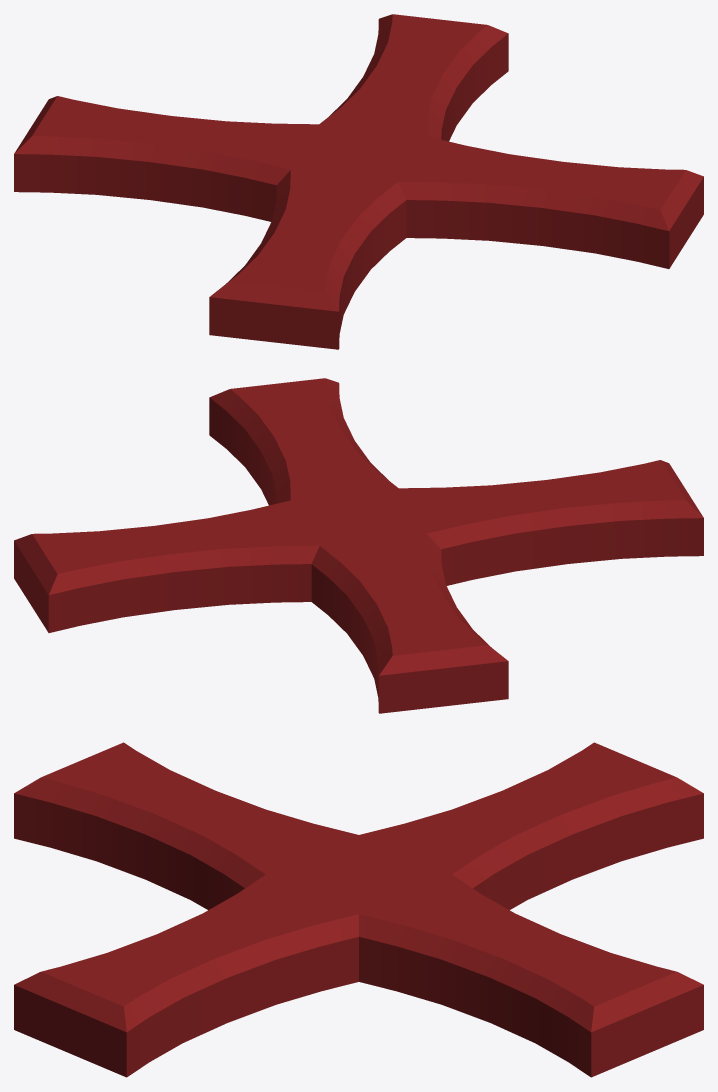
File: Red_X.glb
3 renders of one model, top to bottom at view 1: azimuth 30°, elevation 25°; view 2: azimuth 150°, elevation 25°; view 3: azimuth 270°, elevation 25°, orthographic. The views are drawn at different scales.
Visible parts, largest first — view 1: UI_Red_X; view 2: UI_Red_X; view 3: UI_Red_X.
Part boxes in pixels (x1,y1,x2,y2): UI_Red_X: (14, 14, 703, 349); UI_Red_X: (14, 378, 703, 713); UI_Red_X: (14, 742, 703, 1077).
Size of the model in its own units: 1.1 by 0.1064 by 1.11.
Materials: 1 (1 with a texture image).
